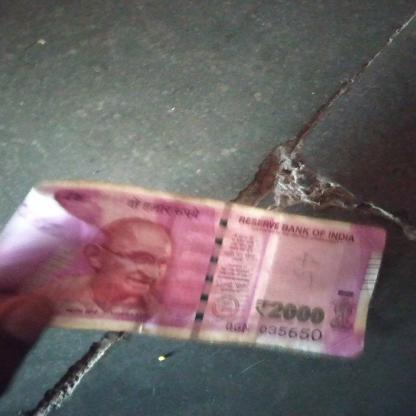New2000Front: (27, 187, 378, 335)
